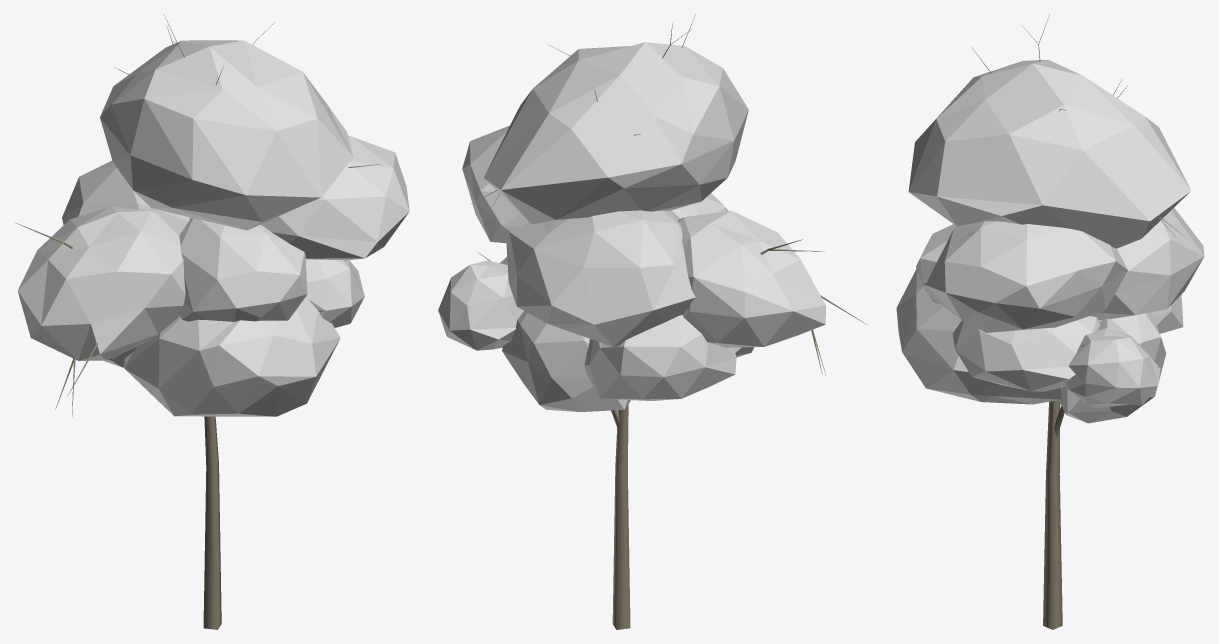
Rendered from Tree.fbx.
3 renders of one model, left to right at view 1: azimuth 30°, elevation 25°; view 2: azimuth 150°, elevation 25°; view 3: azimuth 270°, elevation 25°, orthographic. The views are drawn at different scales.
Visible parts, largest first — view 1: Icosphere, Trunk; view 2: Icosphere, Trunk; view 3: Icosphere, Trunk.
Part boxes in pixels (x1,y1,x2,y2): Icosphere: (17, 40, 409, 416); Trunk: (14, 14, 381, 629); Icosphere: (438, 42, 825, 411); Trunk: (463, 14, 867, 629); Icosphere: (896, 59, 1204, 423); Trunk: (960, 14, 1183, 629).
Size of the model in its own units: 563 by 915 by 434.
